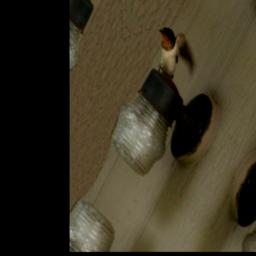Swallow: (145, 15, 204, 96)
